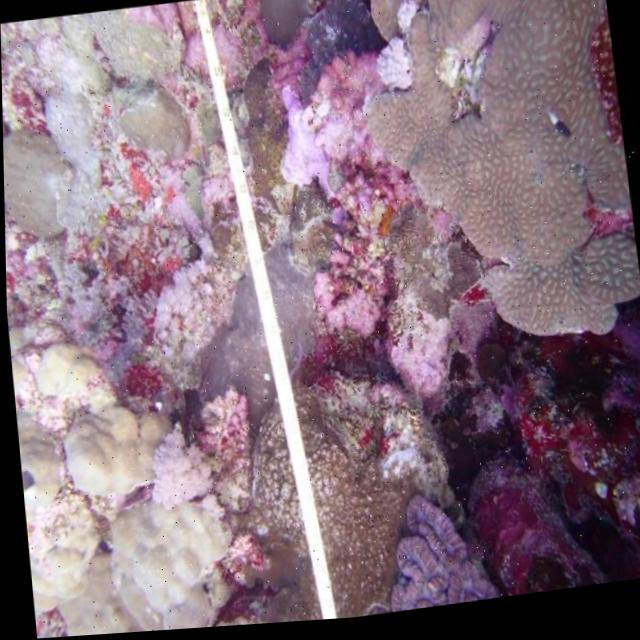Bleached Coral: (5, 290, 250, 640), (262, 78, 366, 216), (351, 0, 438, 112), (141, 416, 226, 516)
